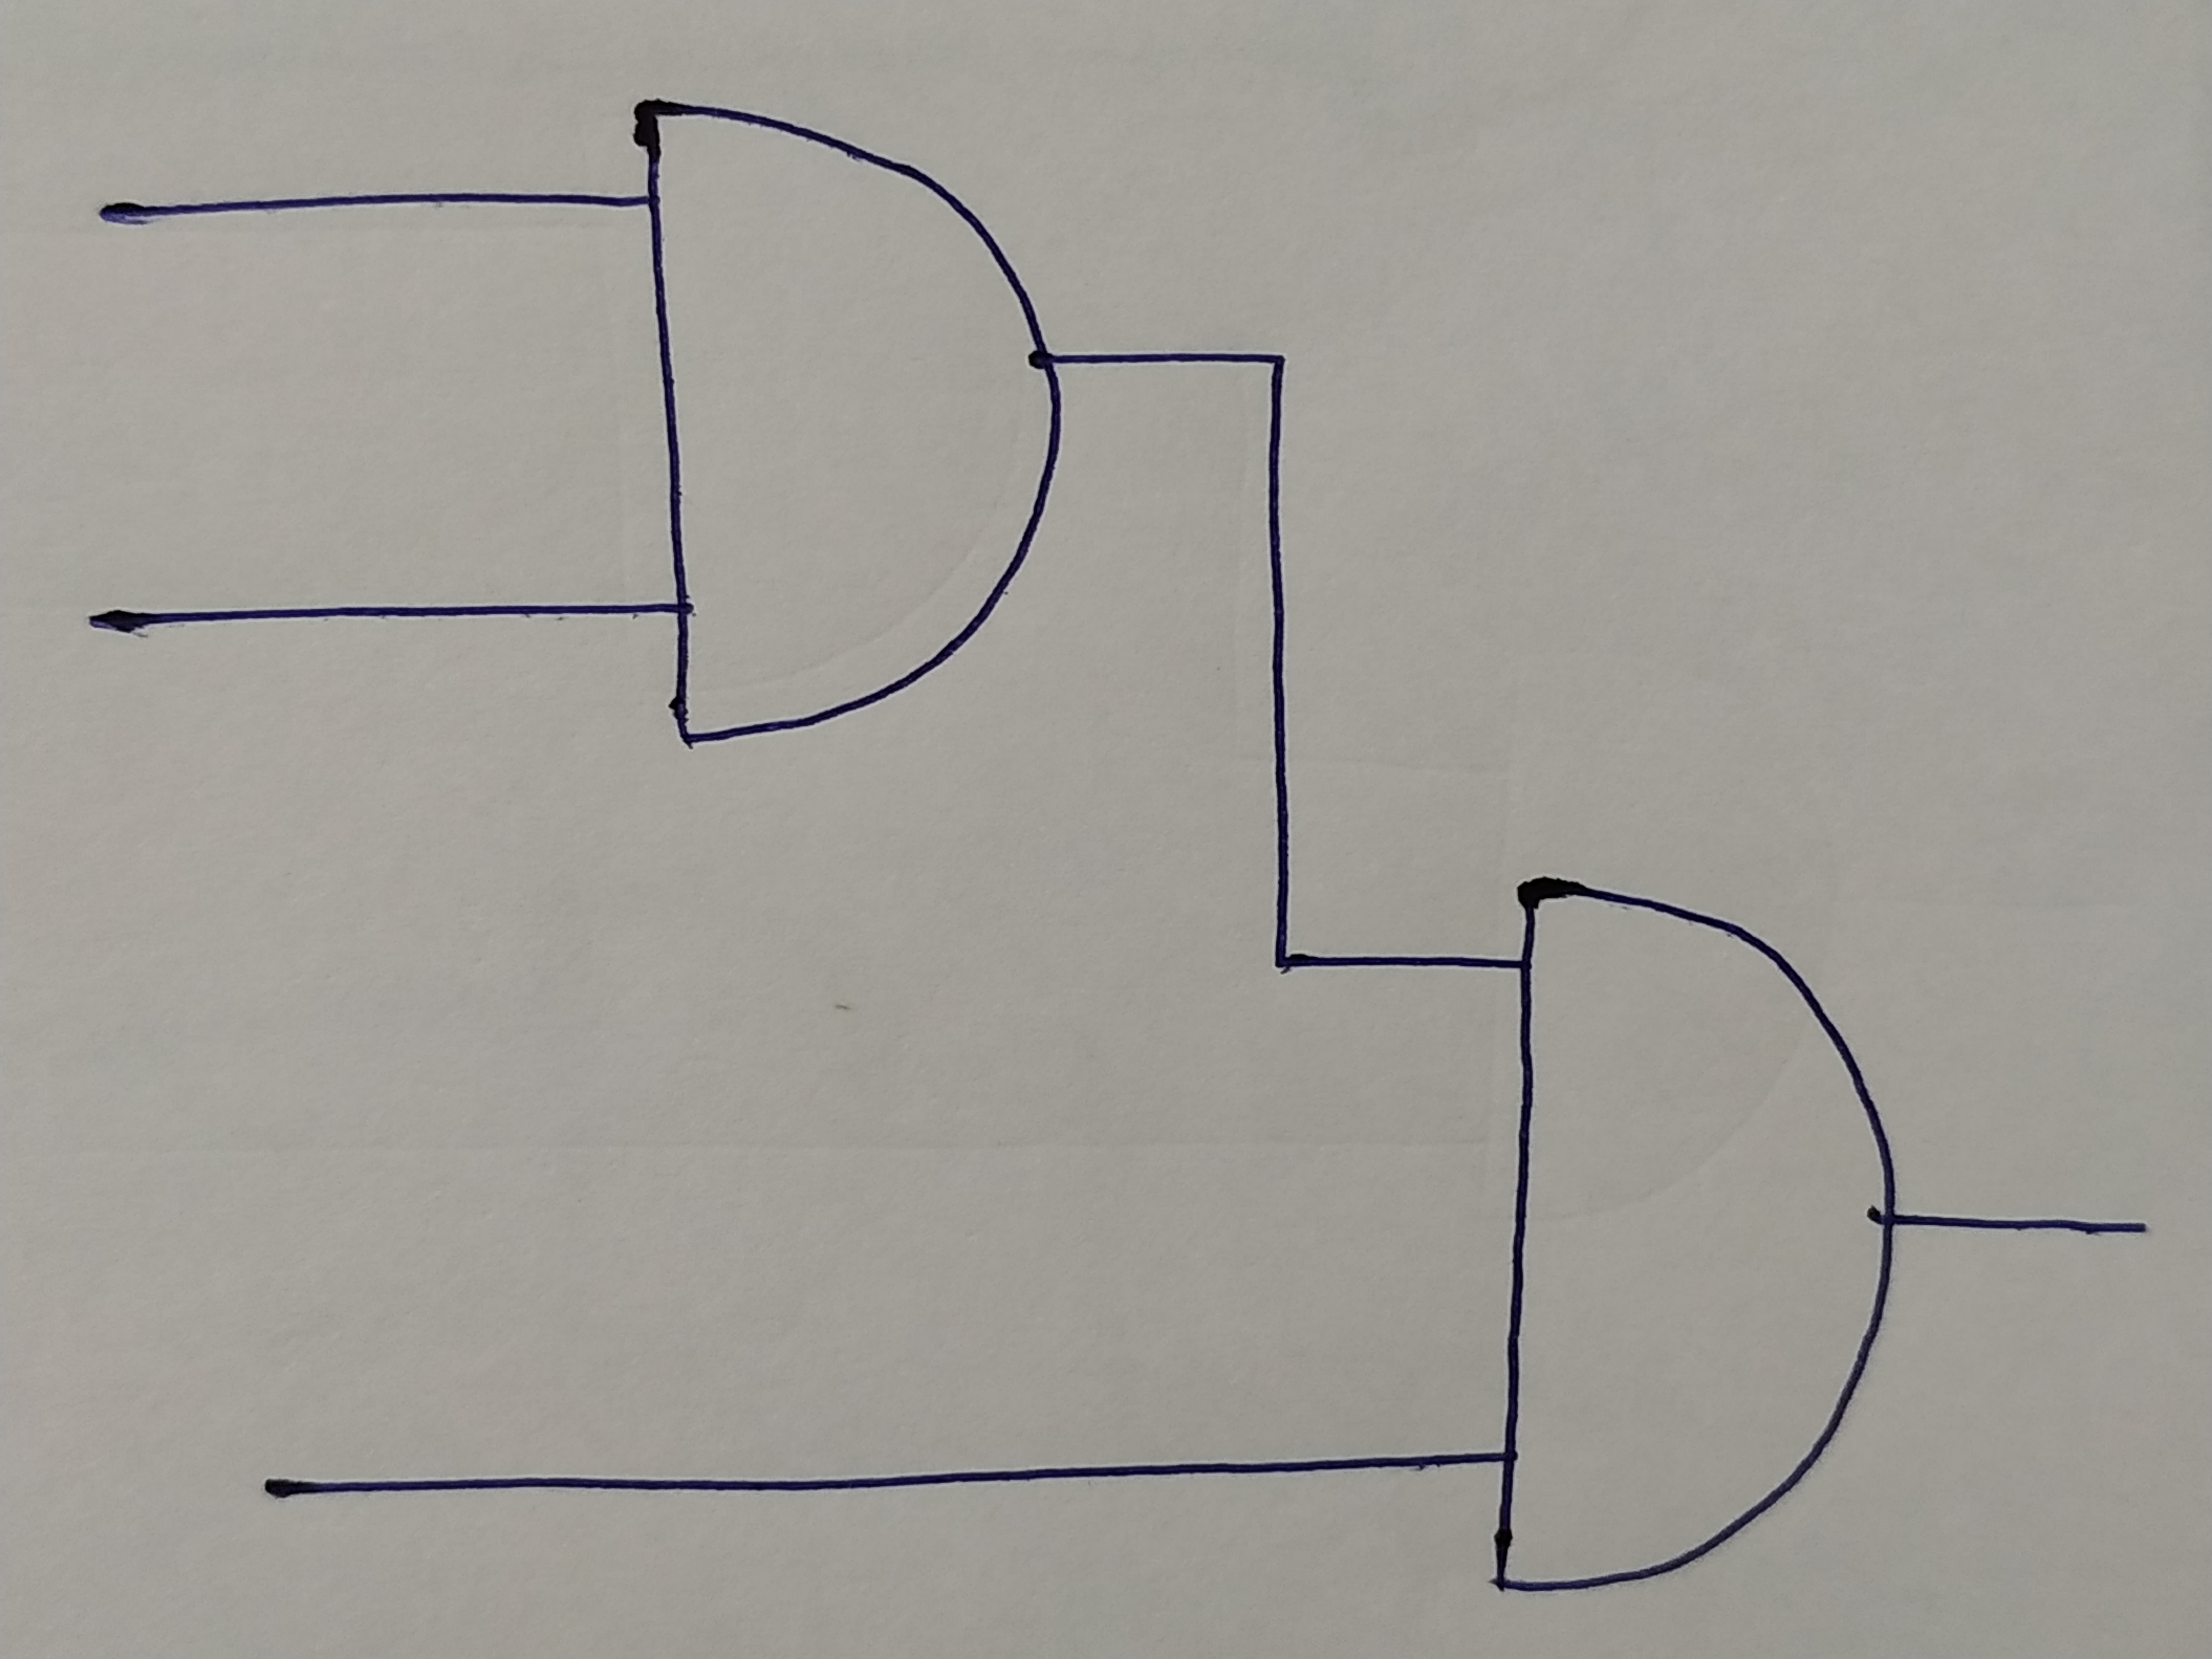and: (1494, 880, 1892, 1596), (634, 98, 1057, 742)
